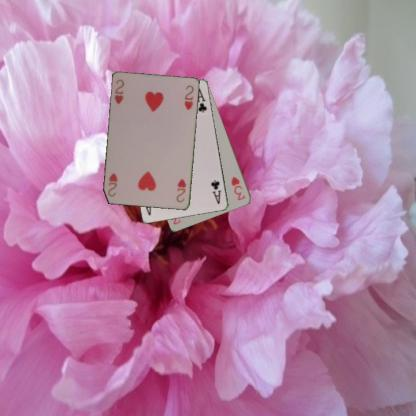2h: (174, 177, 188, 204), (112, 77, 125, 106)
3h: (229, 174, 247, 202)
Ac: (208, 178, 223, 205)
